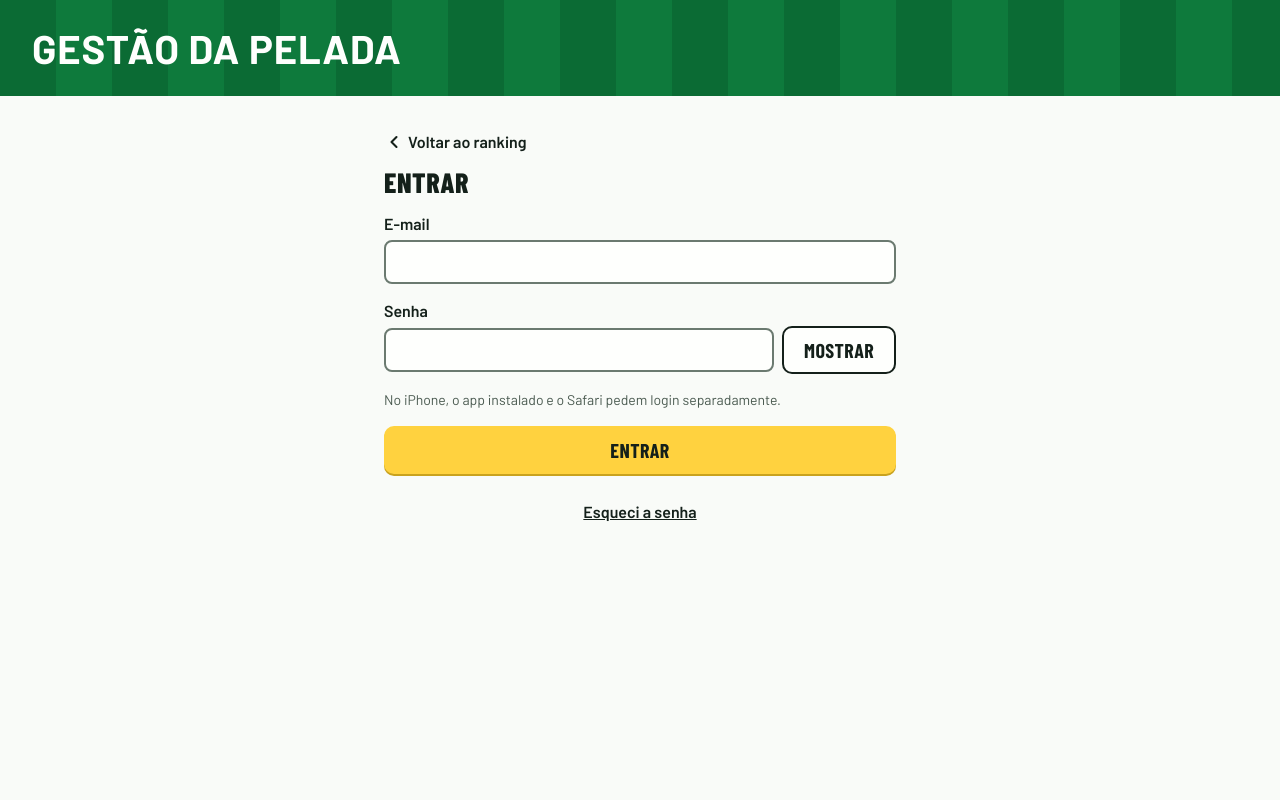
Entrar (T04): envio e erros › falha de rede mostra o erro de envio
Step 1. Type "leandro@exemplo.com.br" into the field labelled "E-mail" → {"x": 640, "y": 262}, box [384,240,896,284]
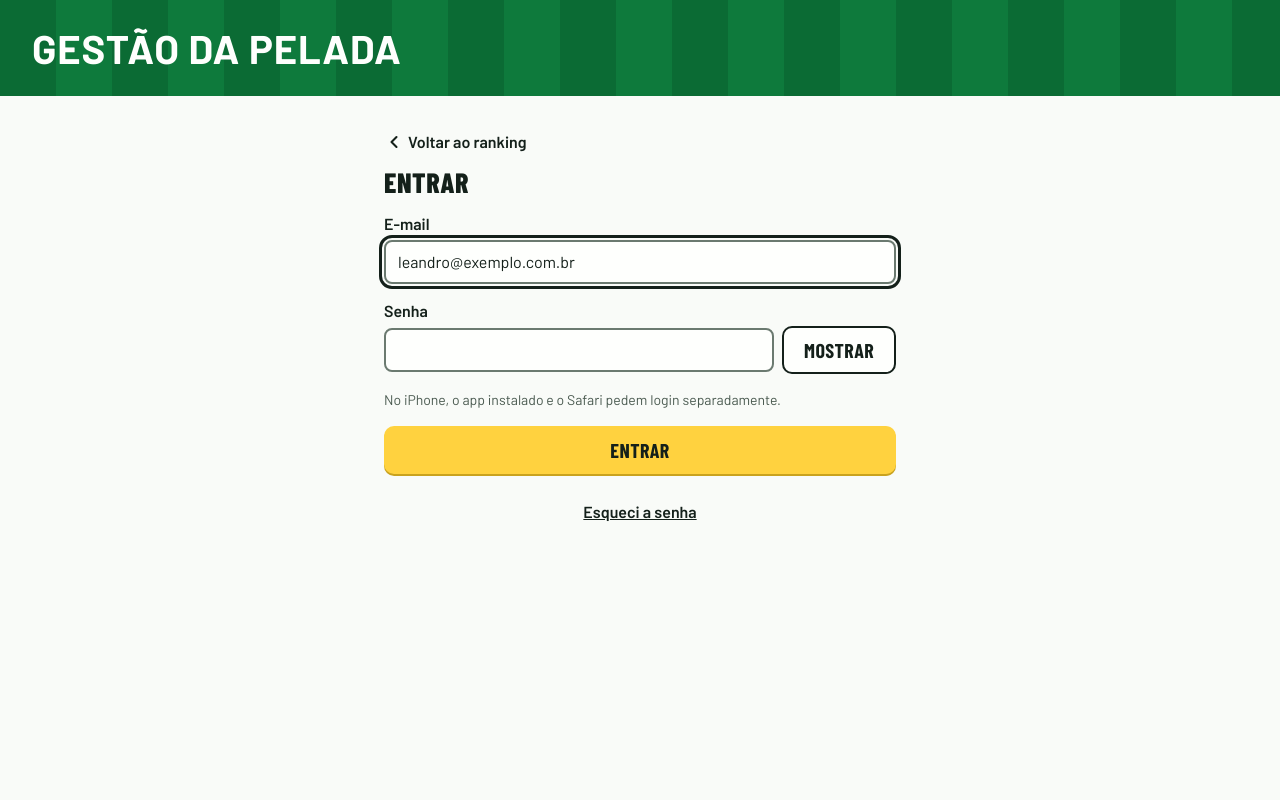
Step 2. Type "segredo123" into the password field labelled "Senha" → {"x": 579, "y": 350}, box [384,328,774,372]
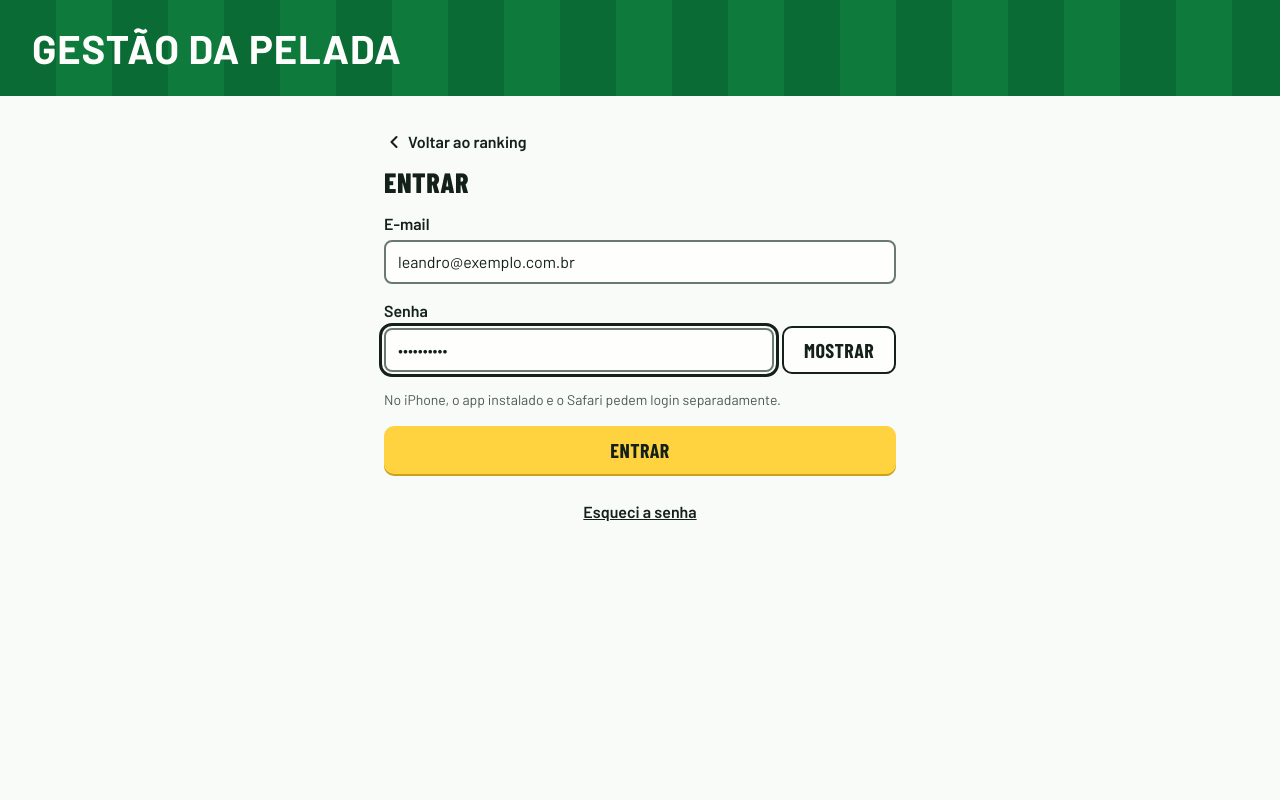
Step 3. Click the button "Entrar" → {"x": 640, "y": 450}, box [384,426,896,474]
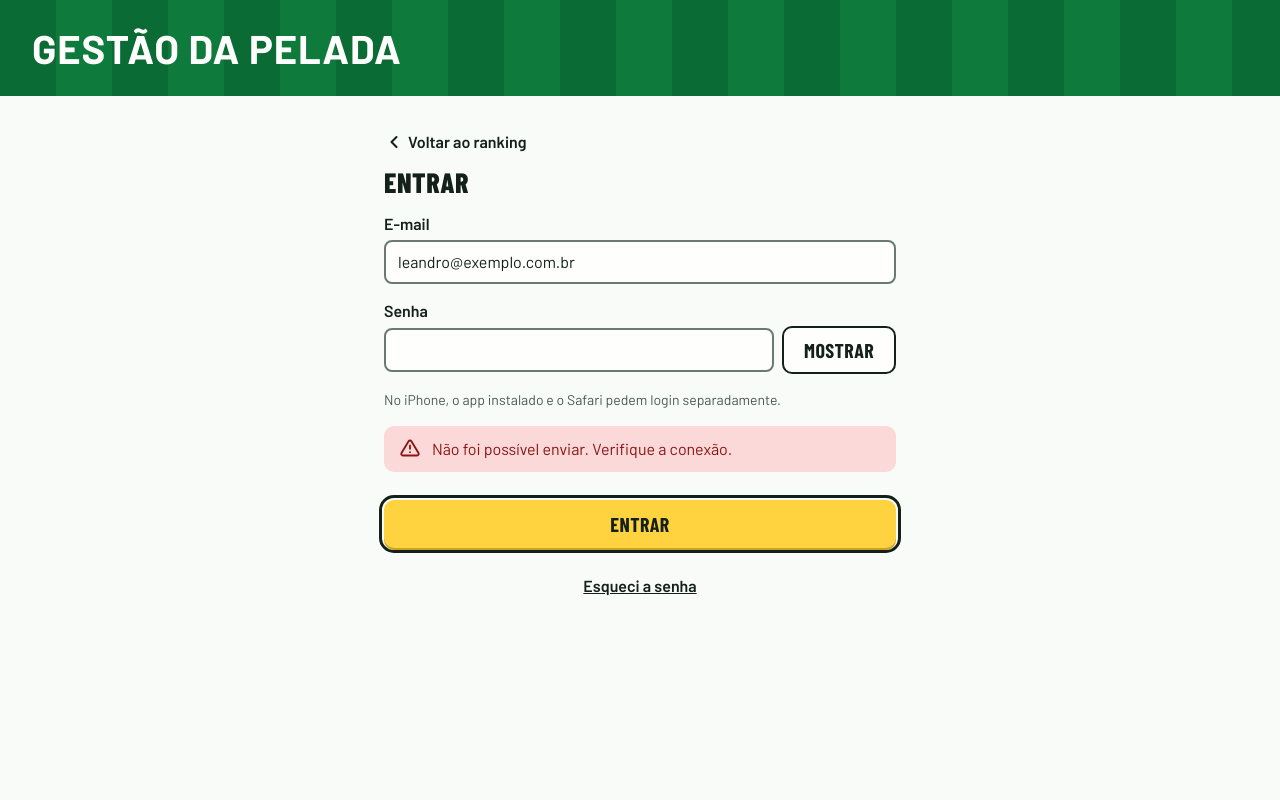
Now the message reads "Não foi possível enviar. Verifique a conexão.", box [432,439,732,458]
